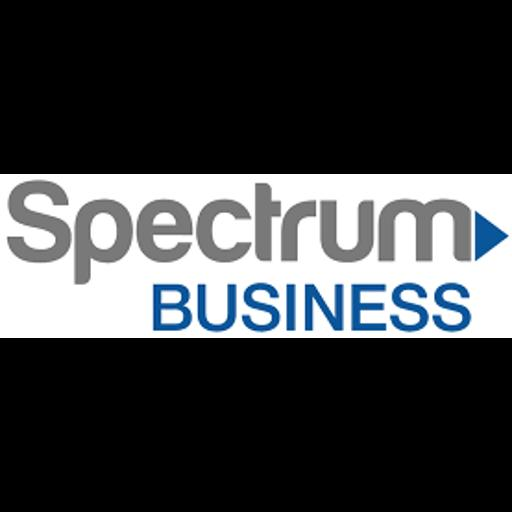Spectrum: (0, 174, 512, 338)
